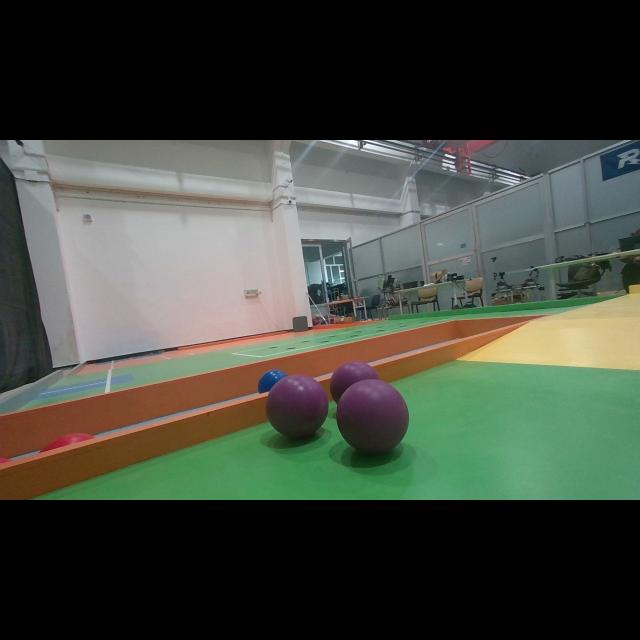P: (336, 380, 409, 454), (266, 375, 328, 439), (330, 362, 380, 406)
